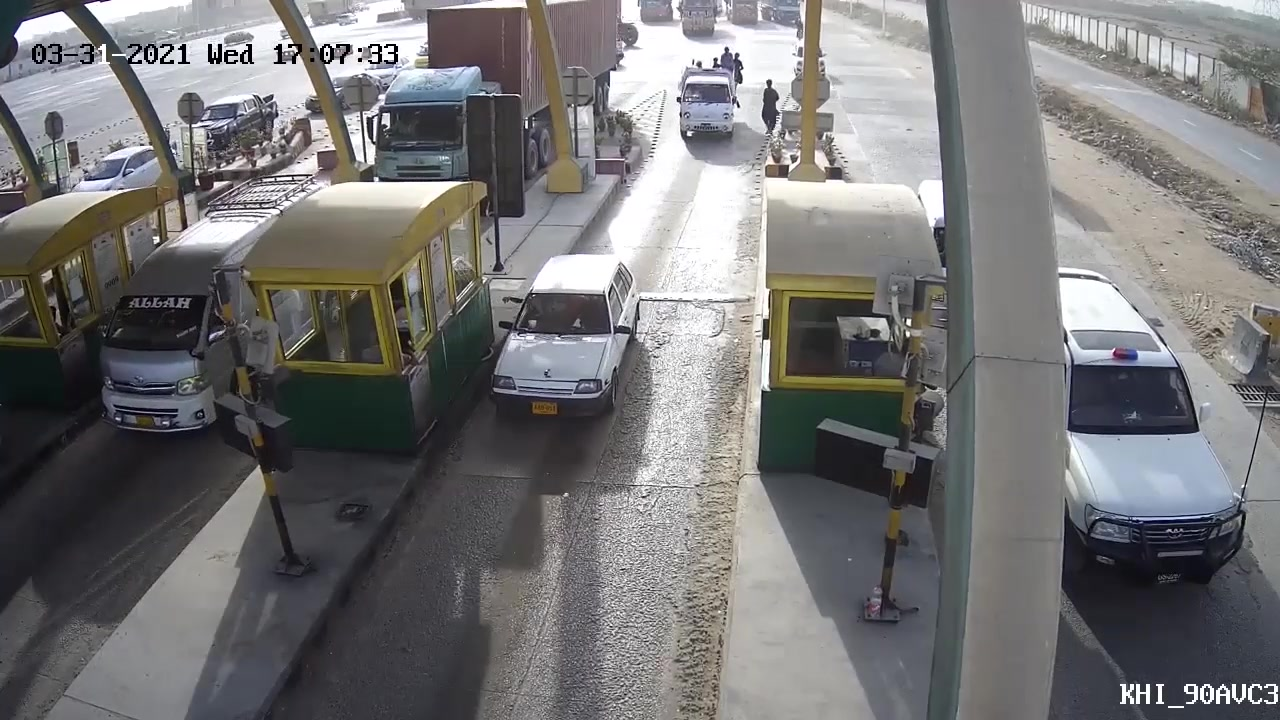F1: (483, 249, 649, 441)
